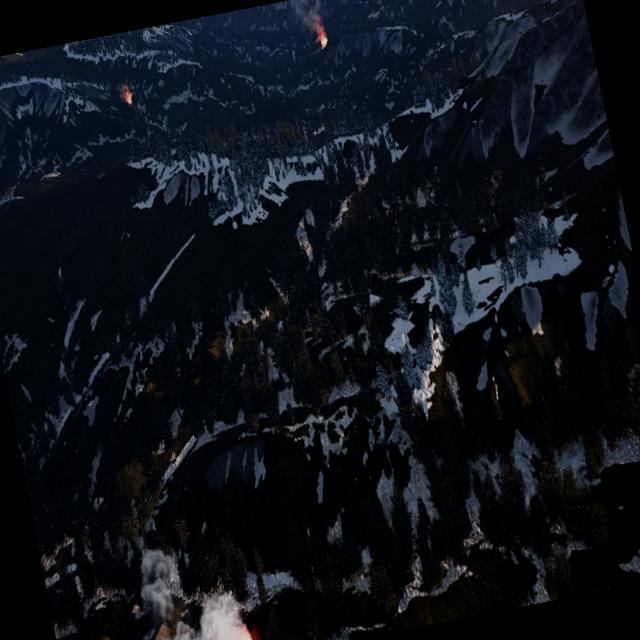fire: (227, 624, 263, 640), (313, 20, 329, 48), (123, 86, 135, 108)
smoke: (123, 530, 256, 640), (264, 0, 329, 39)
